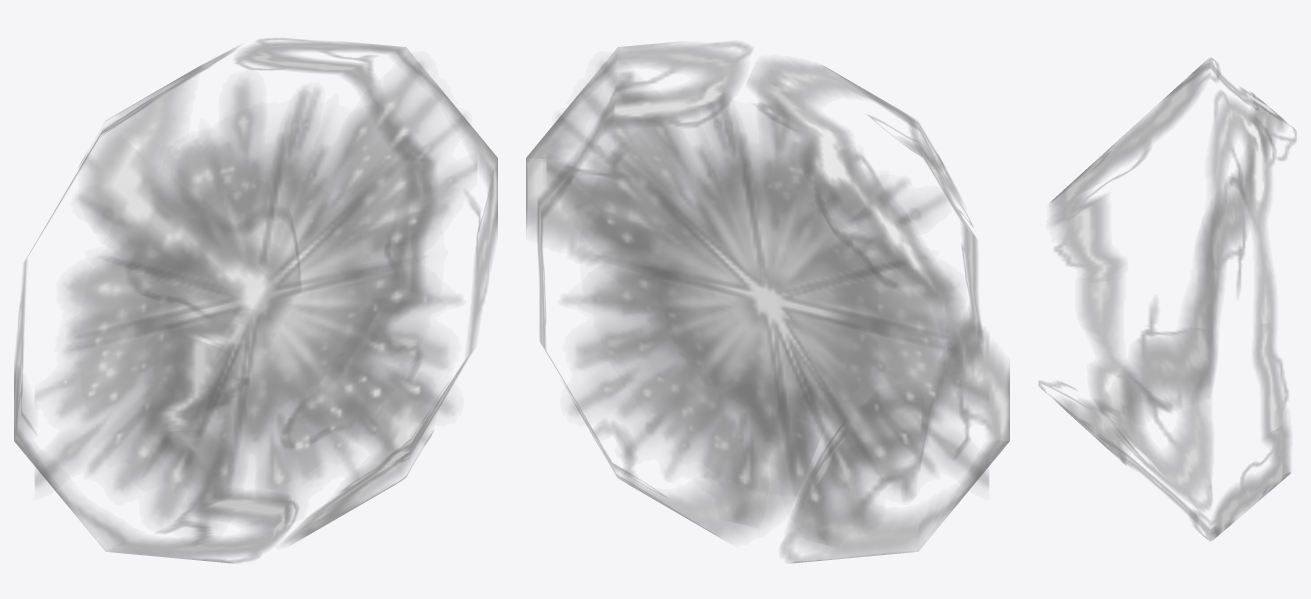
File: si_eoso_0100.glb
3 renders of one model, left to right at view 1: azimuth 30°, elevation 25°; view 2: azimuth 150°, elevation 25°; view 3: azimuth 270°, elevation 25°, orthographic. The views are drawn at different scales.
Visible parts, largest first — view 1: layer_02_si_est_0201, layer_03_si_est_0801, layer_01_si_est_0004, layer_00_si_est_0001; view 2: layer_02_si_est_0201, layer_01_si_est_0004, layer_03_si_est_0801, layer_00_si_est_0001; view 3: layer_03_si_est_0801.
Boxes of the visible parts, <box> form: layer_02_si_est_0201: <box>35,63,476,539</box>; layer_03_si_est_0801: <box>14,38,497,563</box>; layer_01_si_est_0004: <box>96,122,419,461</box>; layer_00_si_est_0001: <box>110,164,385,449</box>; layer_02_si_est_0201: <box>547,63,988,543</box>; layer_01_si_est_0004: <box>604,122,927,475</box>; layer_03_si_est_0801: <box>526,42,1009,563</box>; layer_00_si_est_0001: <box>638,164,913,455</box>; layer_03_si_est_0801: <box>1038,58,1296,540</box>.
Size of the model in its own units: 10.94 by 11.5 by 6.01.
Materials: 4 (4 with a texture image).
